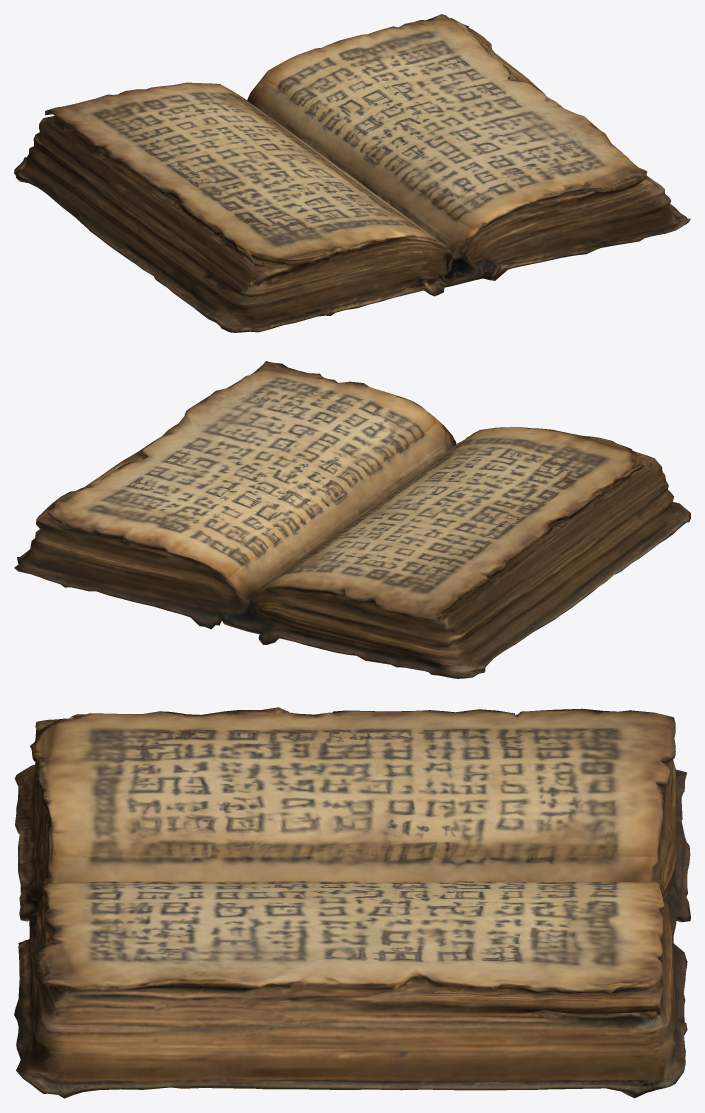
File: ancient_book_made_with_ai.glb
The picture shows the model from 3 angles, top to bottom: view 1: azimuth 30°, elevation 25°; view 2: azimuth 150°, elevation 25°; view 3: azimuth 270°, elevation 25°; orthographic projection. The views are drawn at different scales.
Visible parts, largest first — view 1: input; view 2: input; view 3: input.
Part boxes in pixels (x1,y1,x2,y2): input: [14, 14, 690, 332]; input: [14, 361, 690, 678]; input: [14, 707, 690, 1098].
Size of the model in its own units: 2 by 0.2834 by 1.75.
Materials: 1 (1 with a texture image).
